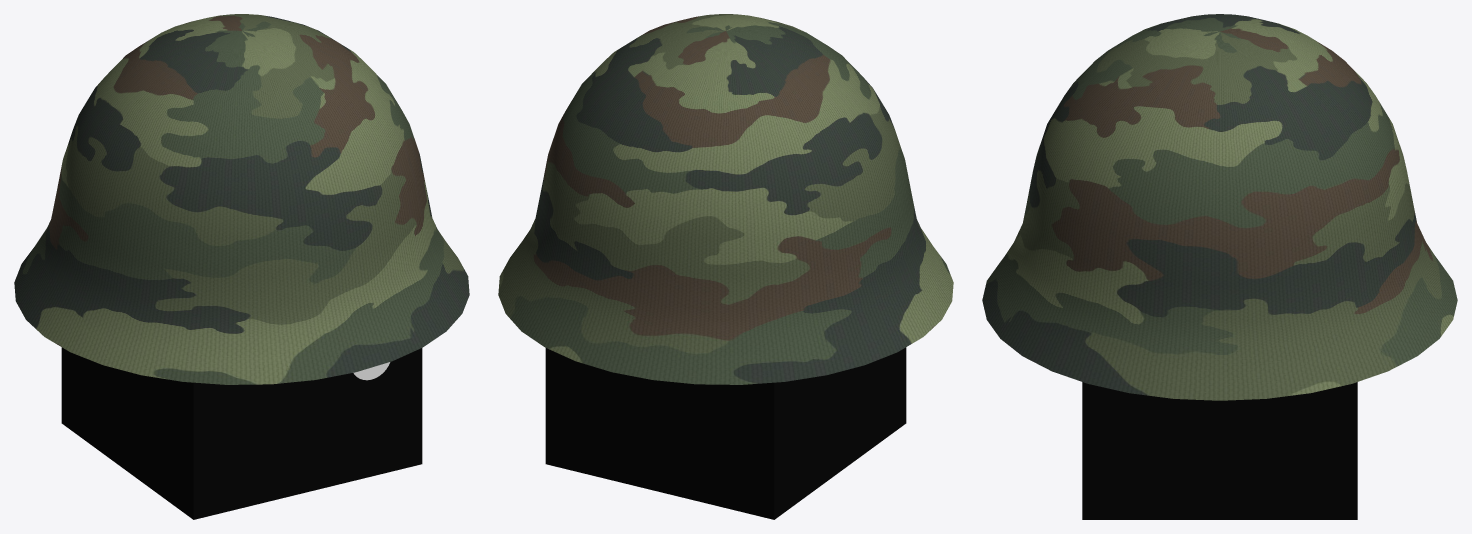
The model's file is helmet.fbx.
3 views of the same model, side by side, from view 1: azimuth 30°, elevation 25°; view 2: azimuth 150°, elevation 25°; view 3: azimuth 270°, elevation 25° (orthographic). The views are drawn at different scales.
Visible parts, largest first — view 1: helmet; view 2: helmet; view 3: helmet.
Part boxes in pixels (bbox=[...]): helmet: bbox=[14, 14, 469, 519]; helmet: bbox=[498, 14, 953, 519]; helmet: bbox=[982, 14, 1457, 519].
Bounding box in the file's own units: 345 × 345 × 345.
